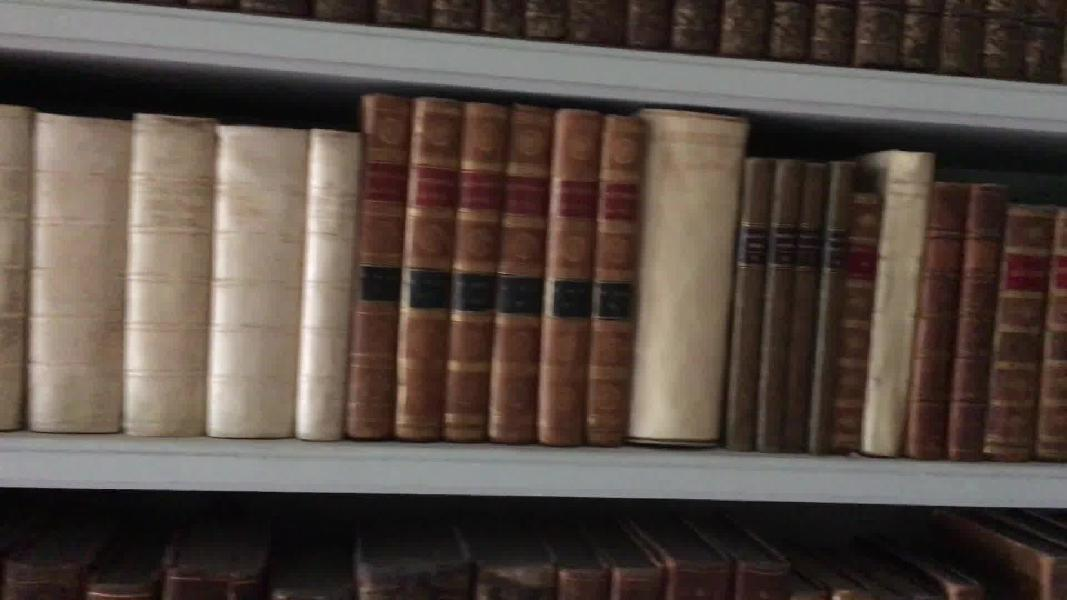Kk4-14: (632, 108, 750, 448)
Kk4-15_16: (731, 154, 801, 446)
Kk4-17_18: (786, 154, 841, 462)
Kk4-19: (846, 178, 877, 458)
Kk4-20: (867, 144, 931, 458)
Kk4-21_22: (919, 182, 1000, 462)
Kk4-3_7: (1, 113, 355, 439)
Kk4-8_13: (355, 91, 642, 452)
